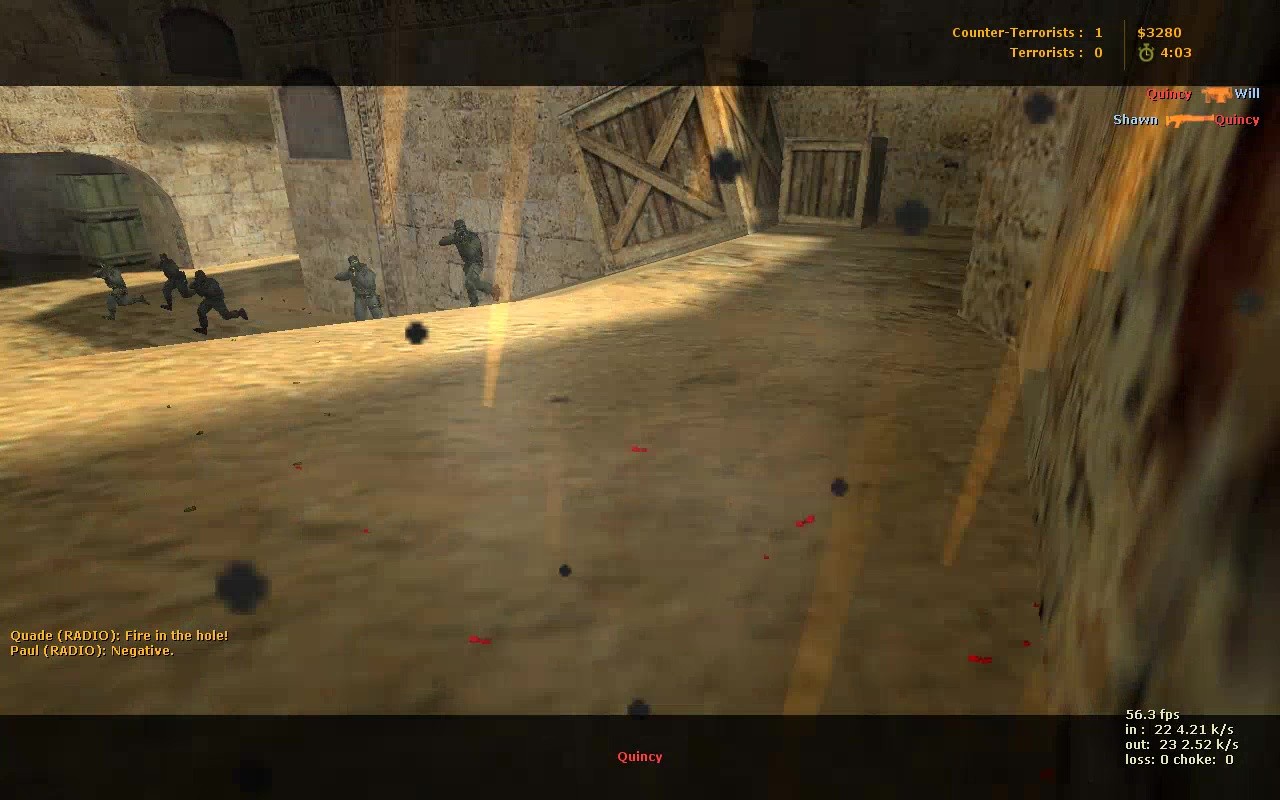ct: (437, 218, 500, 307), (189, 269, 249, 335), (331, 255, 391, 320), (91, 260, 152, 320), (155, 253, 199, 313)
